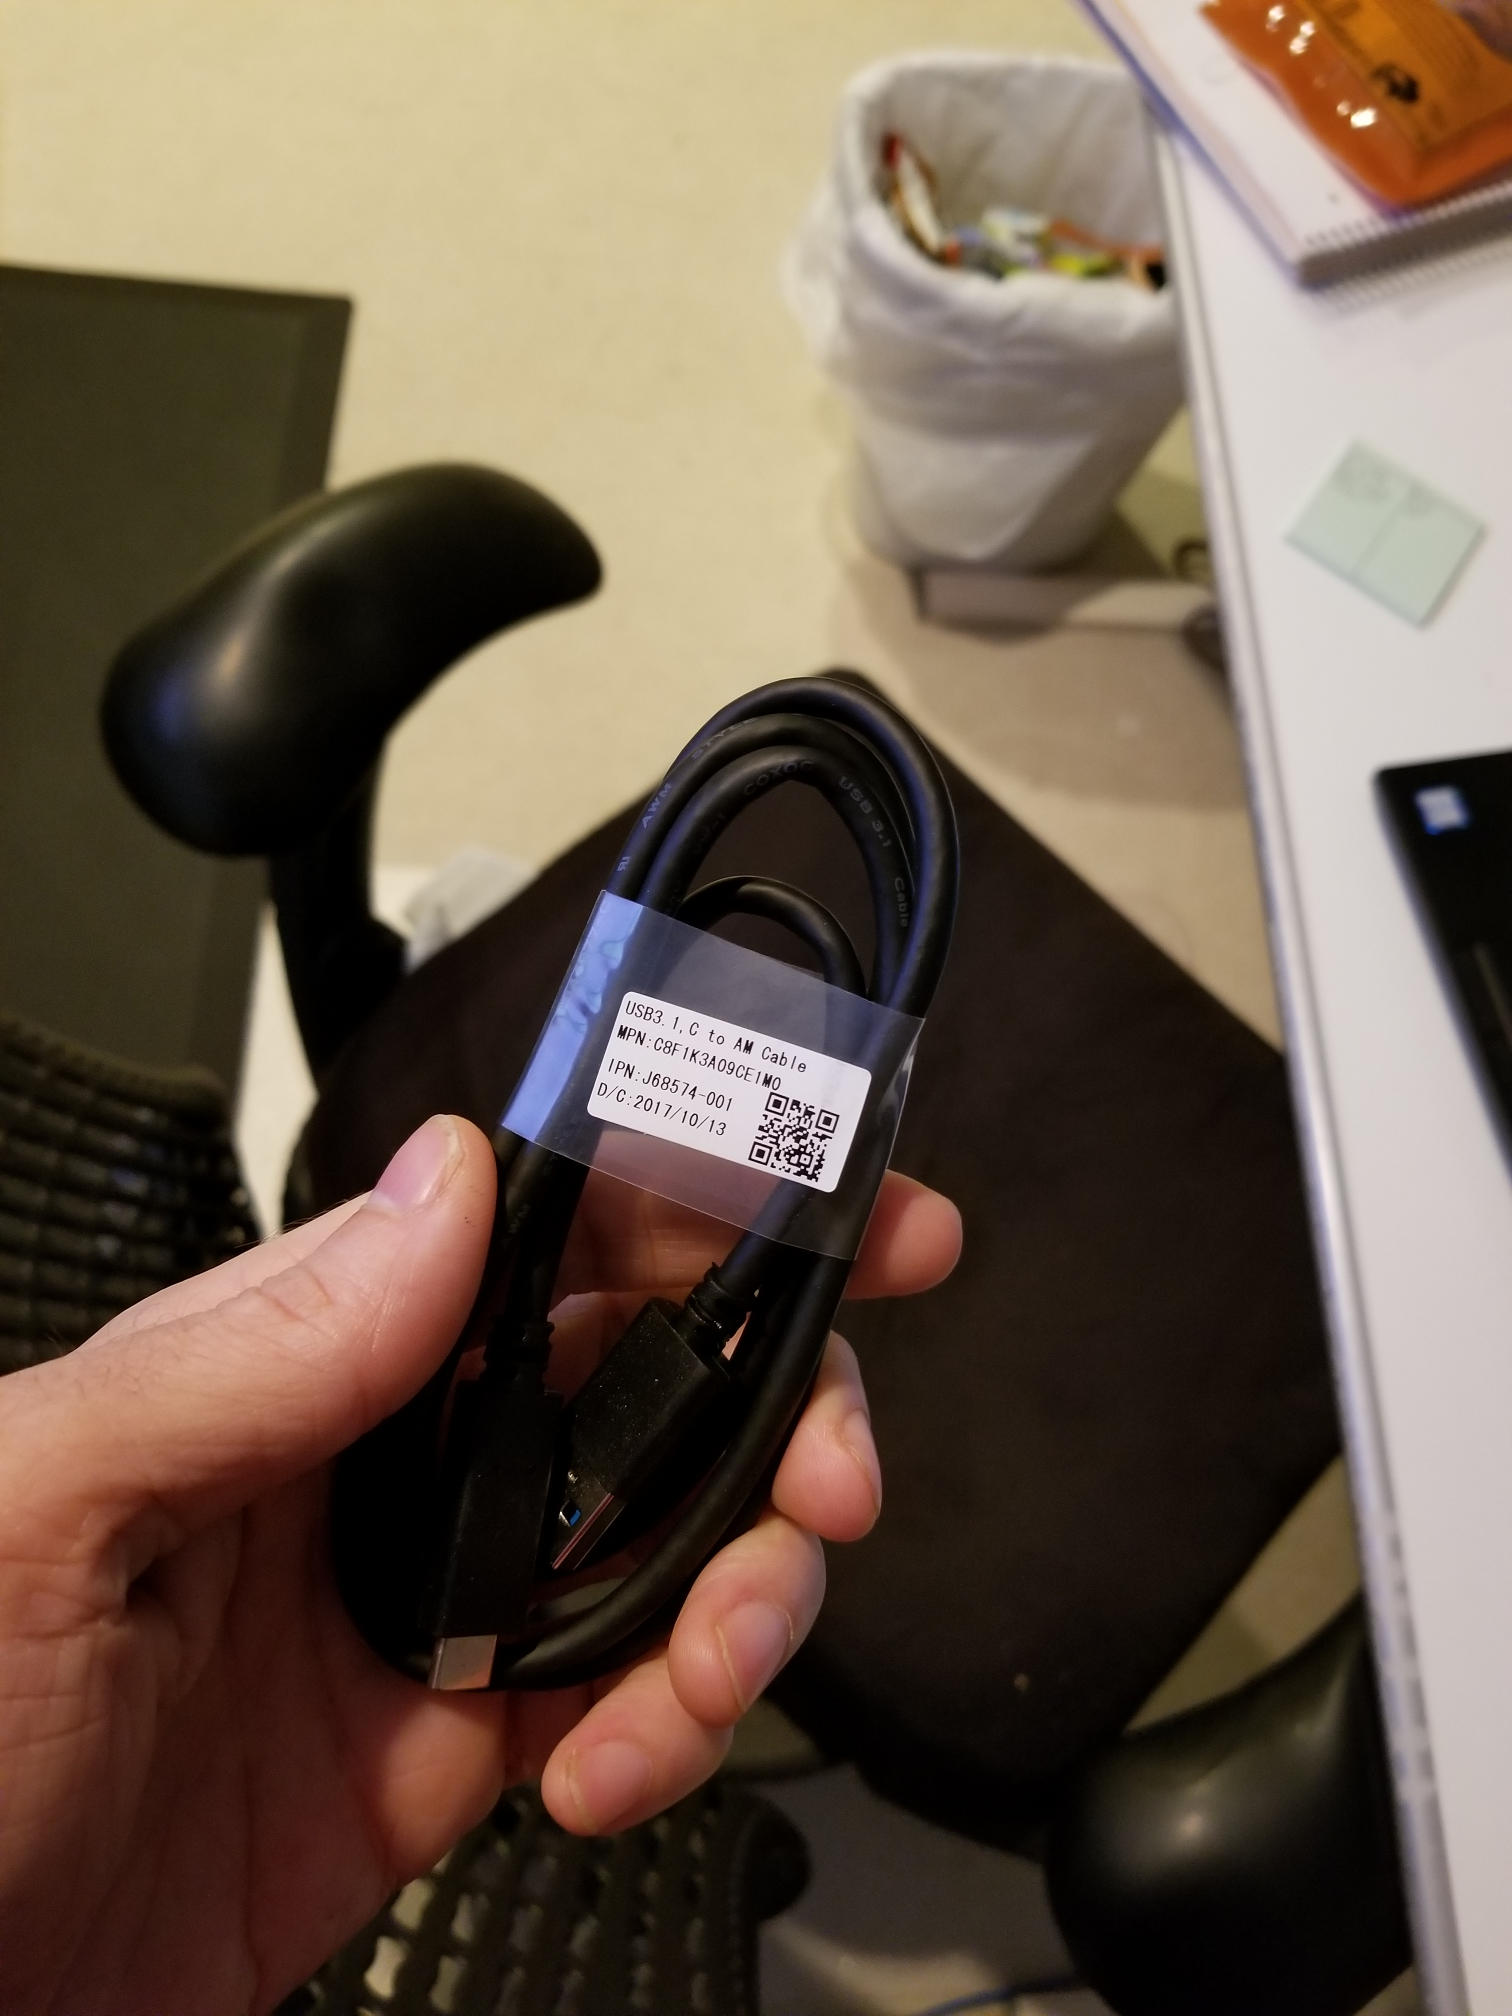QR_CODE: (737, 1060, 859, 1195)
